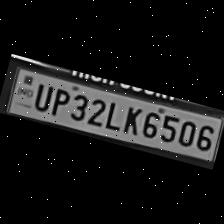0: (174, 116, 199, 148)
2: (83, 94, 108, 128)
3: (65, 89, 90, 123)
5: (156, 110, 180, 144)
6: (136, 106, 162, 140), (191, 120, 217, 154)
K: (119, 102, 144, 136)
L: (102, 98, 126, 132)
P: (46, 84, 72, 119)
U: (30, 80, 54, 113)
